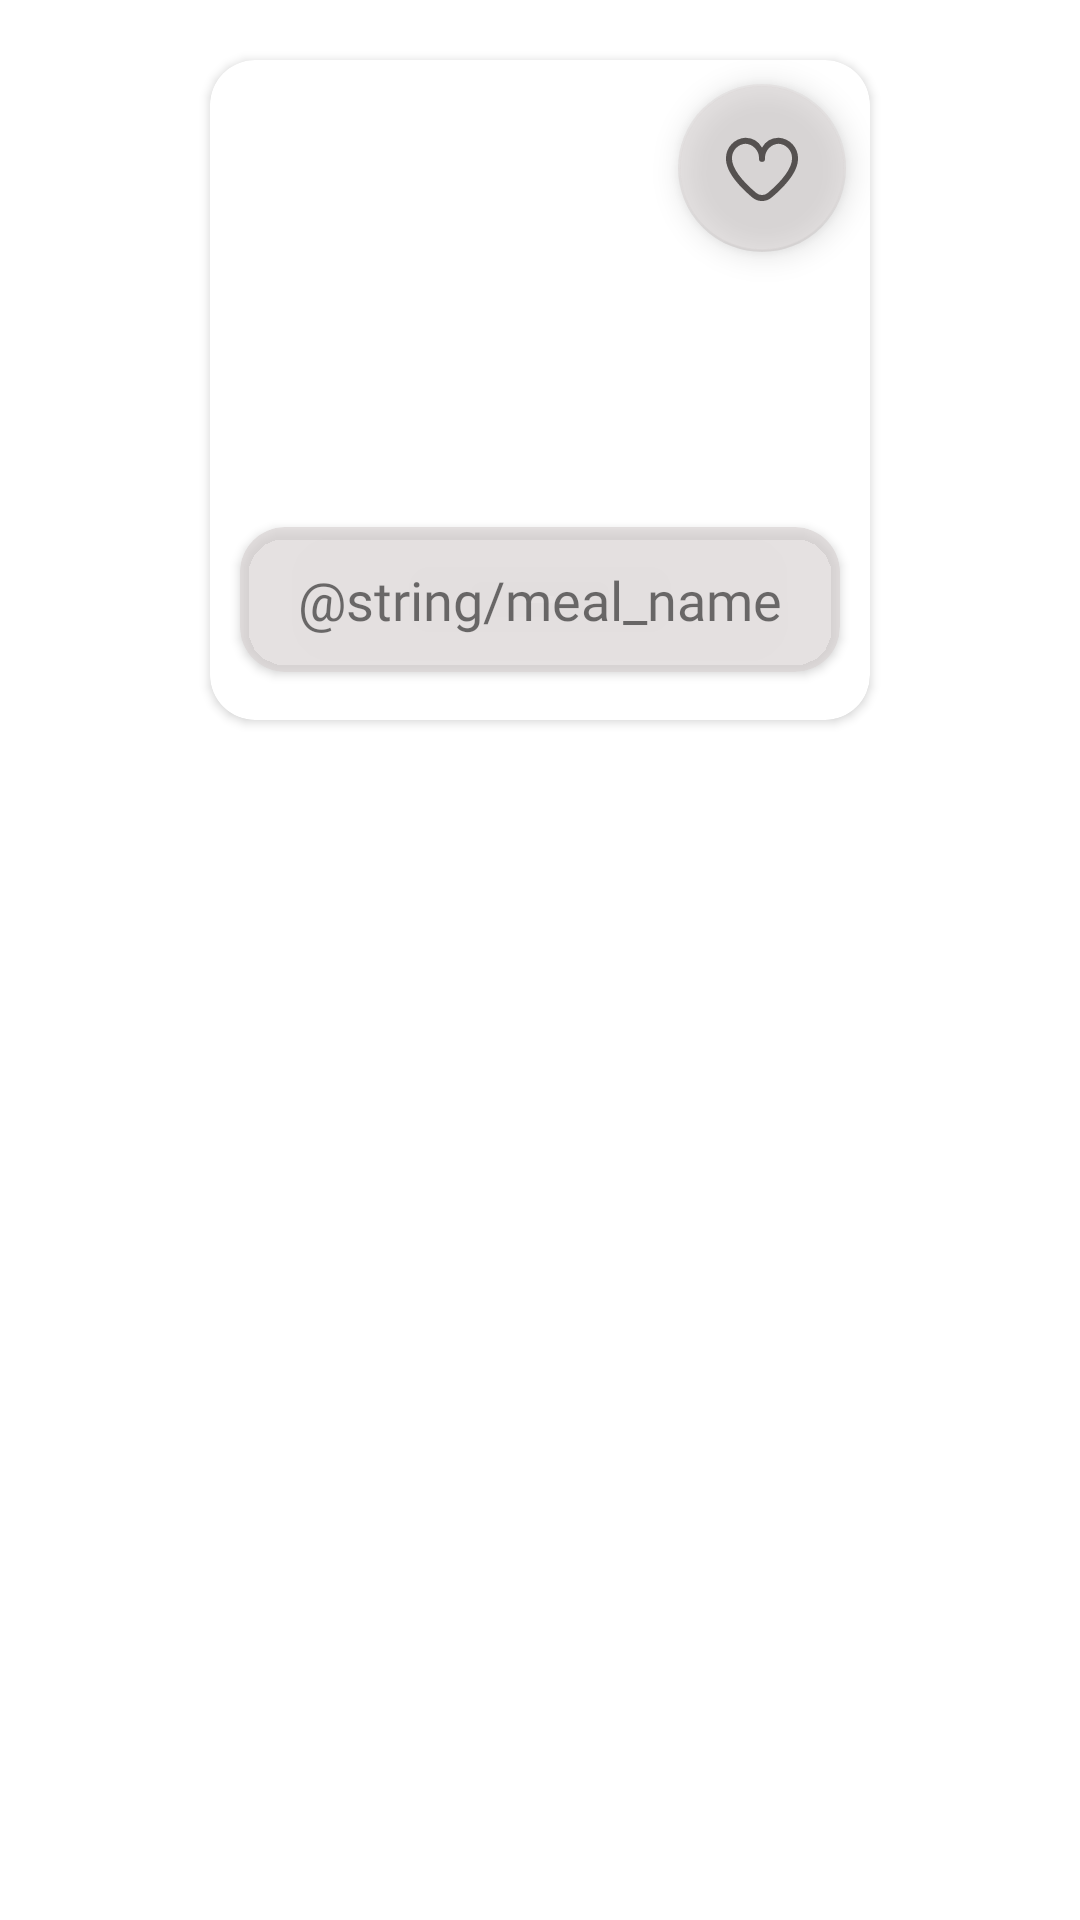

Where icons sit on this 1080w x 1920h app screen, as detection(x1, y1, x2, y2):
add to favs: detection(678, 84, 846, 252)
